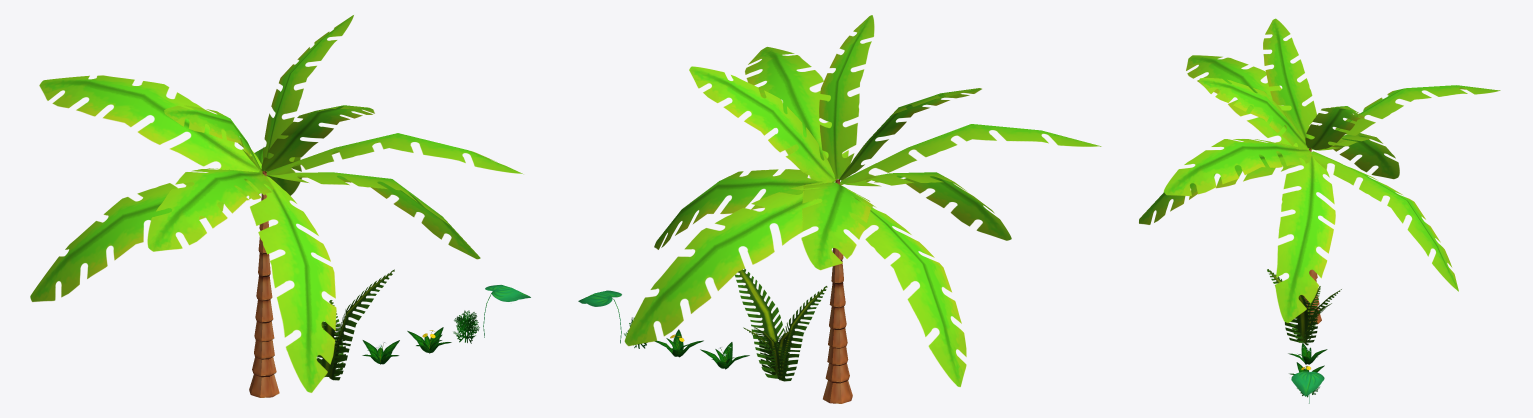
3 renders of one model, left to right at view 1: azimuth 30°, elevation 25°; view 2: azimuth 150°, elevation 25°; view 3: azimuth 270°, elevation 25°, orthographic. The views are drawn at different scales.
Visible parts, largest first — view 1: 6_0, 1_0, 5_0, 4_0, 2_0, 3_0; view 2: 6_0, 1_0, 4_0; view 3: 6_0, 1_0, 4_0.
Boxes of the visible parts, bbox=[...] form: 6_0: bbox=[30, 15, 523, 397]; 1_0: bbox=[316, 269, 394, 380]; 5_0: bbox=[453, 310, 479, 343]; 4_0: bbox=[483, 284, 530, 337]; 2_0: bbox=[407, 327, 451, 353]; 3_0: bbox=[362, 340, 399, 364]; 6_0: bbox=[624, 15, 1101, 403]; 1_0: bbox=[735, 268, 827, 381]; 4_0: bbox=[578, 290, 621, 343]; 6_0: bbox=[1139, 18, 1500, 324]; 1_0: bbox=[1267, 269, 1341, 345]; 4_0: bbox=[1291, 371, 1324, 403].
Size of the model in its own units: 35.21 by 22.91 by 31.13.
1 material, 1 textured.
